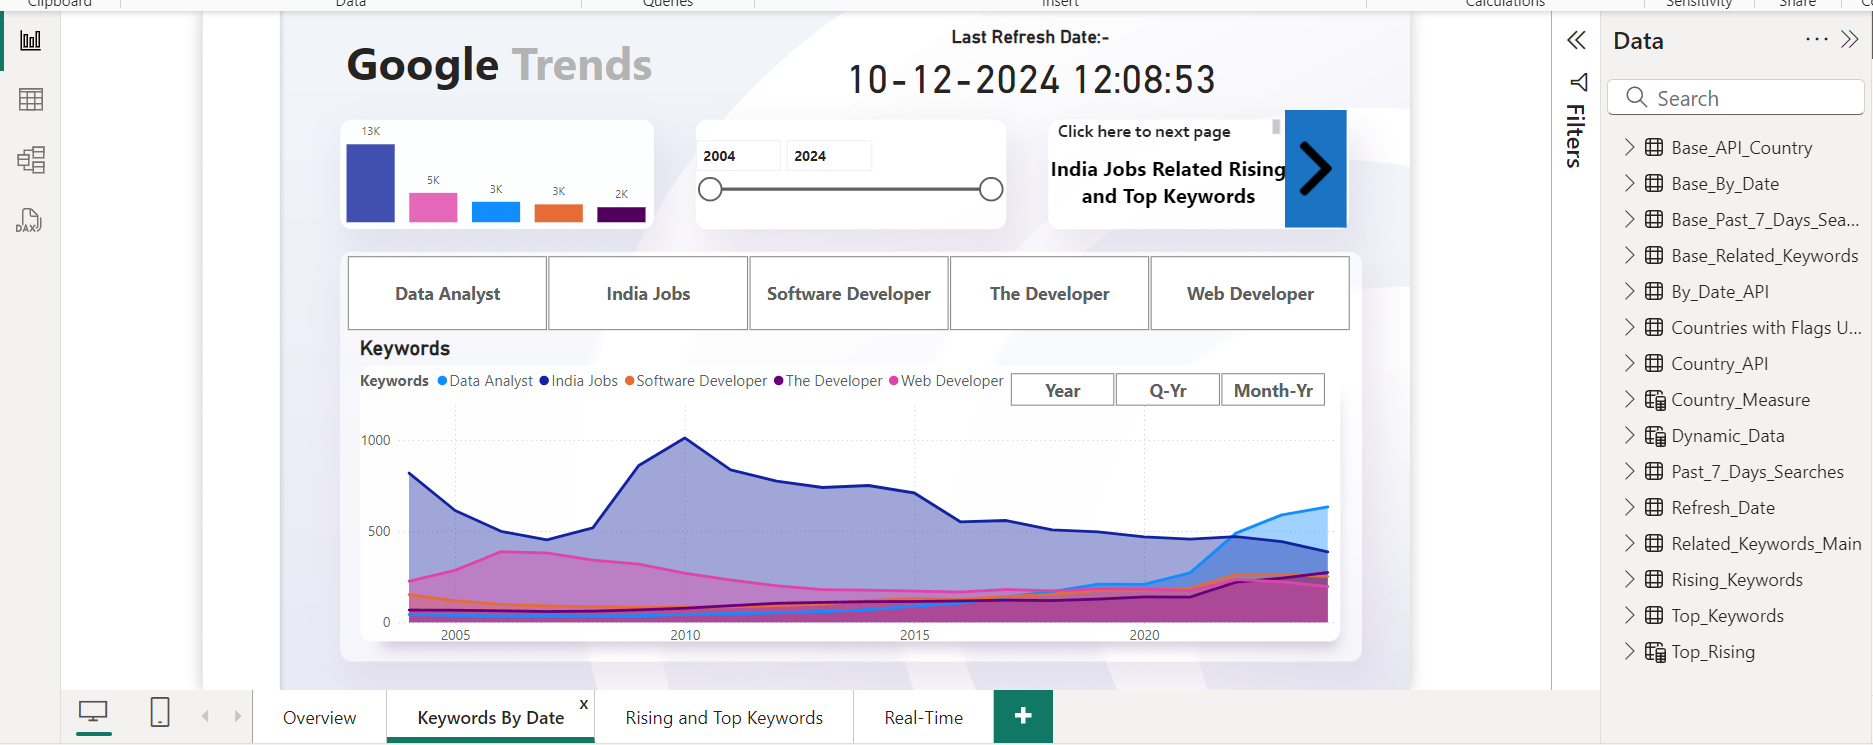

The dashboard page shown, as its layout file describes it:
{"tool":"powerbi","page":{"name":"Keywords By Date","canvas":[1280,720],"ordinal":1},"visuals":[{"type":"areaChart","title":"Keywords","fields":{"Category":["By_Date_API.Date.Variation.Date Hierarchy.Year","By_Date_API.Date.Variation.Date Hierarchy.Quarter","By_Date_API.Date.Variation.Date Hierarchy.Month","By_Date_API.Date.Variation.Date Hierarchy.Day"],"Y":["By_Date_API.By_Date_Value"],"Series":["By_Date_API.Keywords"]},"box":[162.3,344.7,1052.2,336.7],"z":0},{"type":"slicer","fields":{"Values":["Dynamic_Data.Dynamic_Data"]},"box":[831.7,376.8,382.8,48.1],"z":1000},{"type":"slicer","fields":{"Values":["By_Date_API.Keywords"]},"box":[128.3,252.5,1112.3,92.2],"z":2000},{"type":"clusteredColumnChart","fields":{"Category":["By_Date_API.Keywords"],"Y":["By_Date_API.By_Date_Value"]},"box":[147.2,104.3,329.2,124.7],"z":3000},{"type":"slicer","fields":{"Values":["By_Date_API.Year"]},"box":[511.2,126.8,347.6,102.2],"z":4000},{"type":"textbox","box":[901.9,109.8,246.5,36.6],"z":5000},{"type":"textbox","box":[147.2,16.4,456,110.4],"z":6000},{"type":"card","title":"Last Refresh Date:-","fields":{"Values":["Min(Refresh_Date.Column1)"]},"box":[517.3,16.4,723.8,79.7],"z":7000},{"type":"actionButton","box":[1149.1,104.3,65.4,124.7],"z":8000},{"type":"shape","box":[893.5,128.8,261.7,102.2],"z":9000}]}

Visuals, with their boxes on the page's 1280x720 design canvas (x1, y1, x2, y2). These are canvas units, not pixel positions in the 1873x745 screenshot, which may show the page scaled, cropped or inside an application window:
"Keywords" areaChart: locate(162, 345, 1214, 681)
slicer - Dynamic_Data.Dynamic_Data: locate(832, 377, 1214, 425)
slicer - By_Date_API.Keywords: locate(128, 252, 1241, 345)
clusteredColumnChart - By_Date_API.Keywords x By_Date_API.By_Date_Value: locate(147, 104, 476, 229)
slicer - By_Date_API.Year: locate(511, 127, 859, 229)
textbox: locate(902, 110, 1148, 146)
textbox: locate(147, 16, 603, 127)
"Last Refresh Date:-" card: locate(517, 16, 1241, 96)
actionButton: locate(1149, 104, 1214, 229)
shape: locate(894, 129, 1155, 231)
